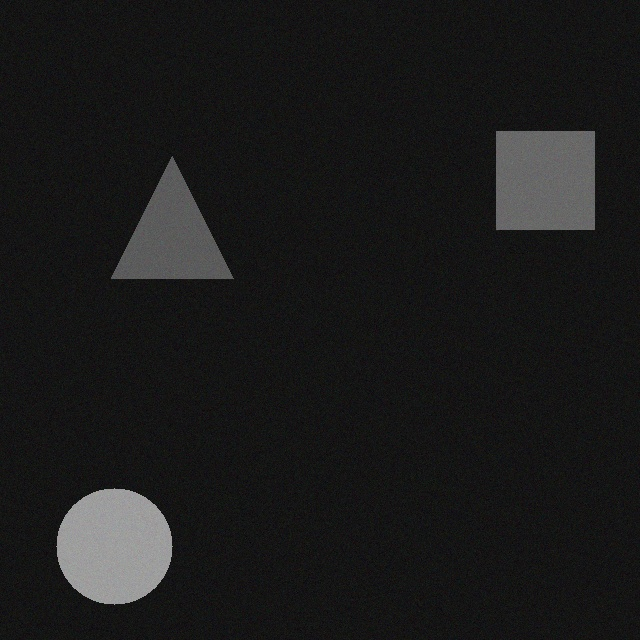circle: (64, 475, 180, 591)
square: (504, 118, 602, 216)
triangle: (119, 143, 241, 265)
